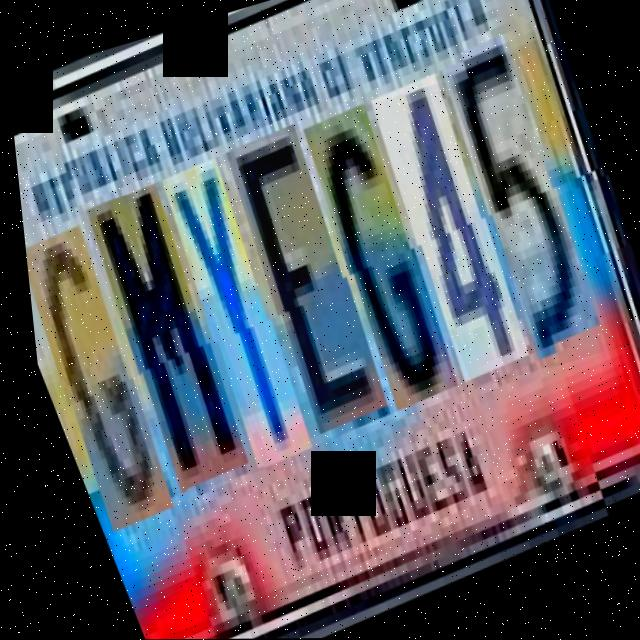4: (359, 81, 549, 390)
5: (431, 53, 624, 370)
E: (211, 128, 406, 439)
G: (291, 110, 476, 417), (18, 216, 184, 523)
M: (71, 184, 264, 494)
Y: (147, 160, 328, 474)
